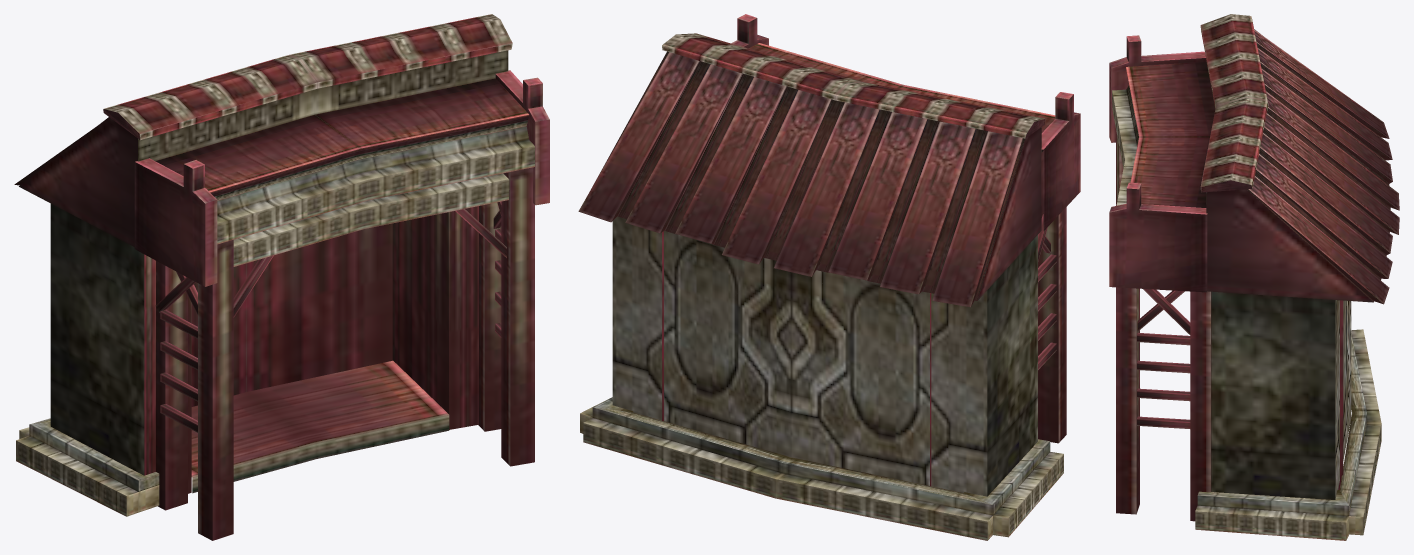
3 views of the same model, side by side, from view 1: azimuth 30°, elevation 25°; view 2: azimuth 150°, elevation 25°; view 3: azimuth 270°, elevation 25° (orthographic). The views are drawn at different scales.
Visible parts, largest first — view 1: a112; view 2: a112; view 3: a112.
Part boxes in pixels (x1,y1,x2,y2): a112: (14,14,549,540); a112: (578,14,1080,540); a112: (1109,14,1399,540).
Bounding box in the file's own units: 1206 × 979 × 745.
